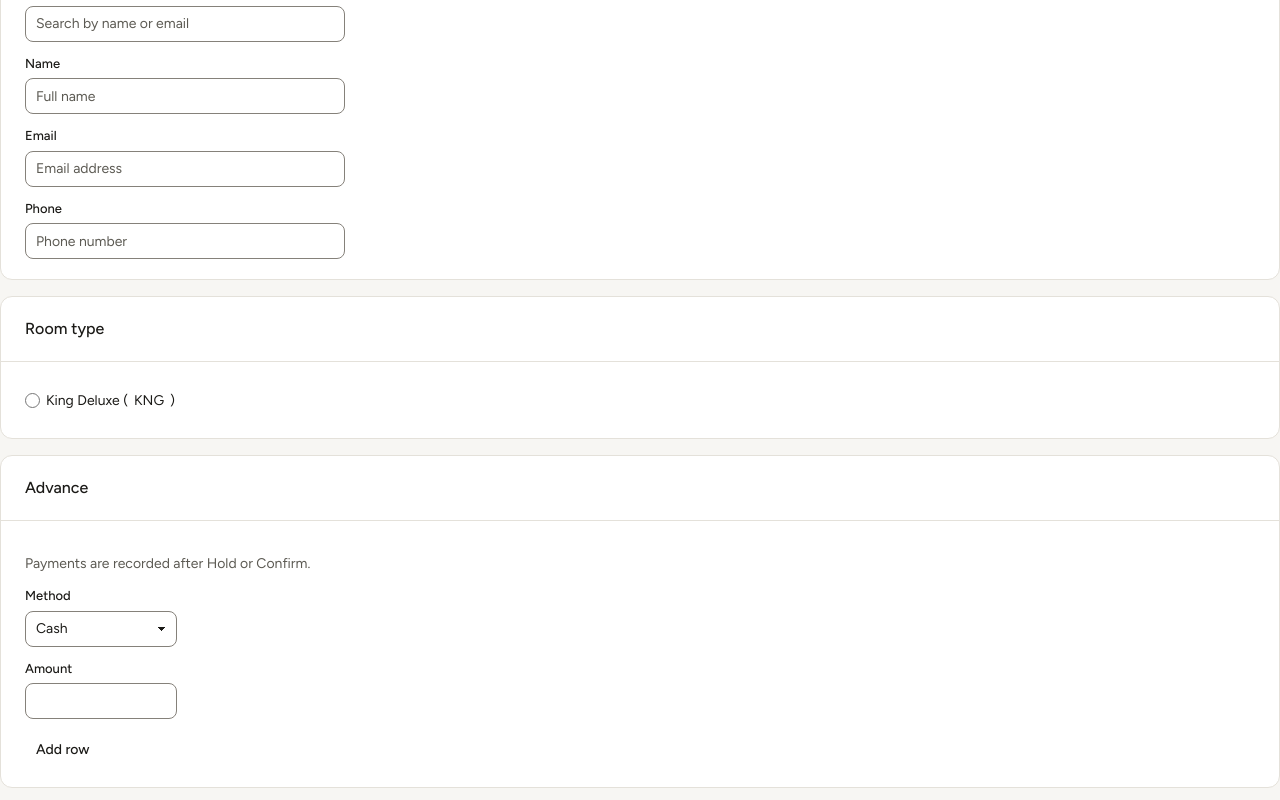
Scenario: BookingScreen › hides nightly amount inputs without rates:override
(page scrolled)
Click the radio button labelled "King Deluxe ( KNG )": (32, 400) x1=25 y1=393 x2=40 y2=408
(page scrolled)
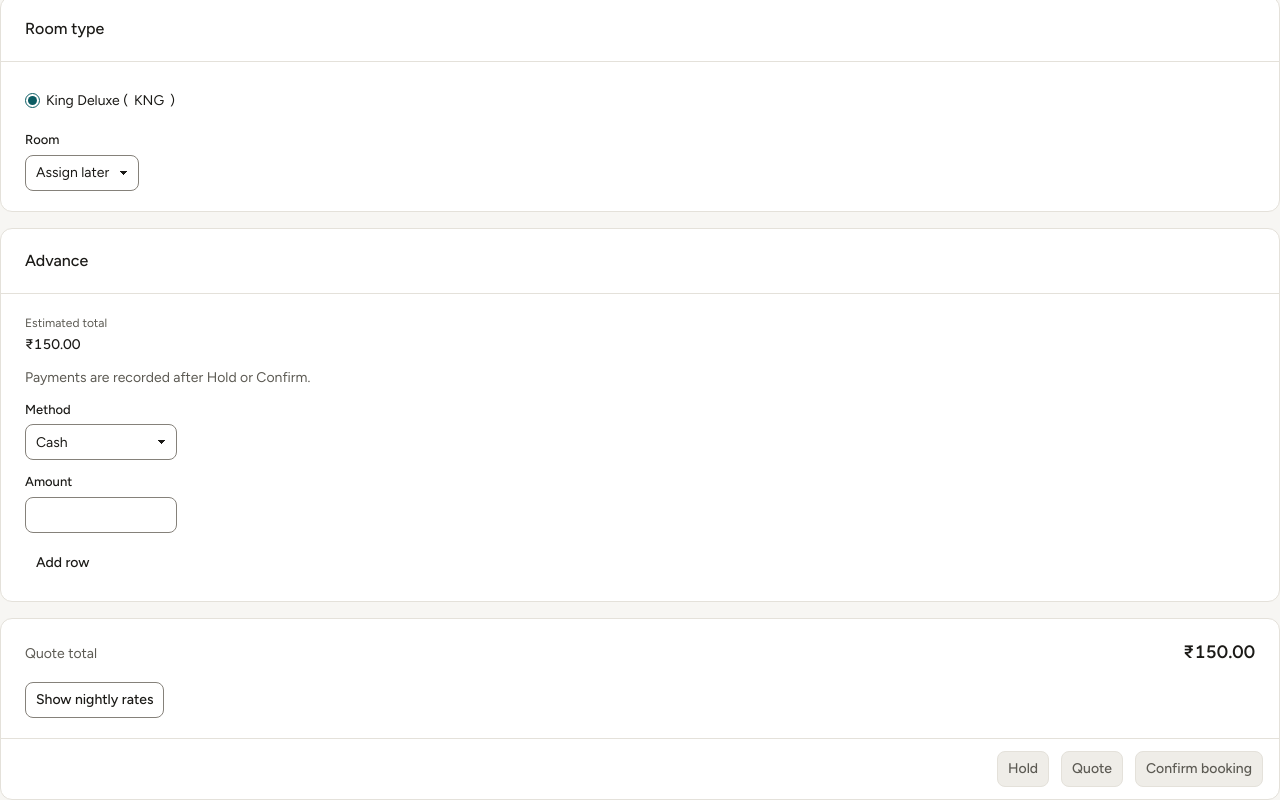
Check: the button with test id "nightly-rates-toggle" is shown
Click the button with test id "nightly-rates-toggle": (95, 700) x1=25 y1=682 x2=164 y2=718
(page scrolled)
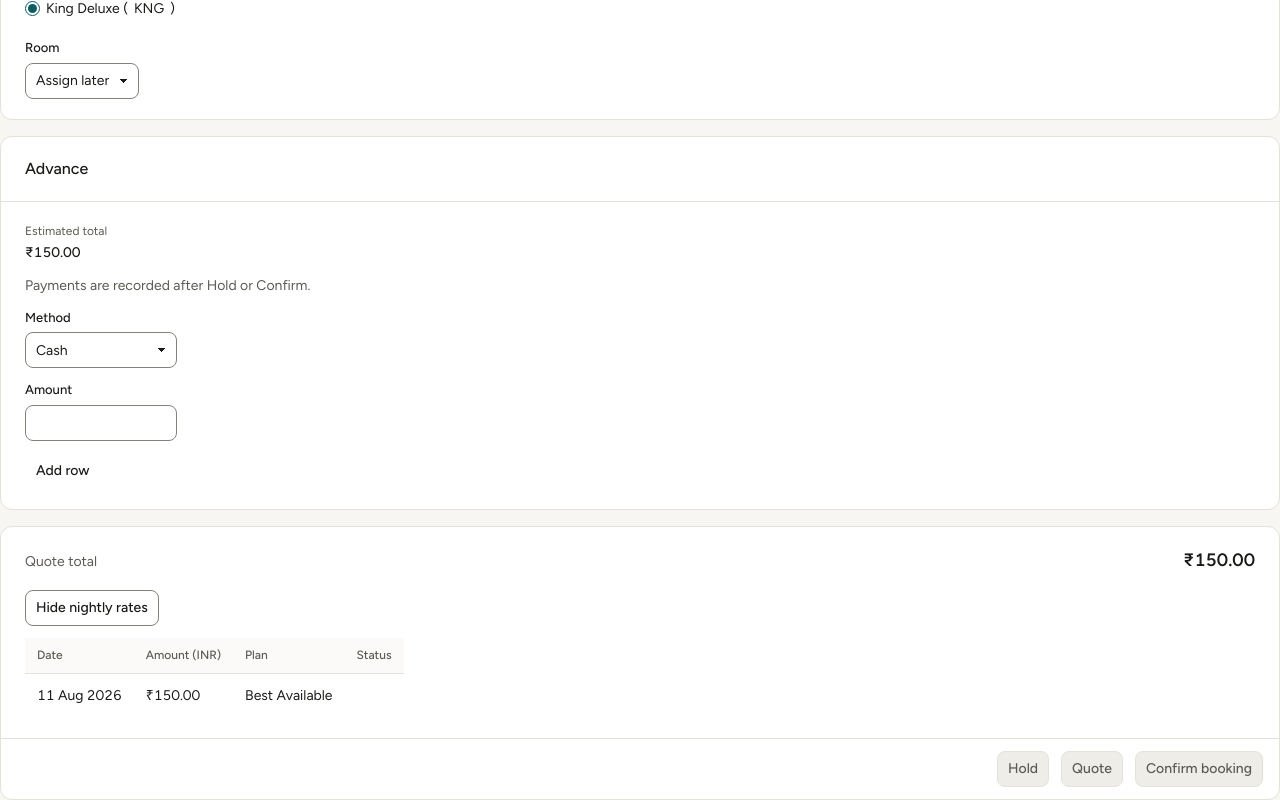
Check: the table with test id "nightly-rates-table" shows "Amount (INR)", box x1=146 y1=648 x2=221 y2=662
Check: the table with test id "nightly-rates-table" shows "Best Available", box x1=245 y1=688 x2=332 y2=704
Check: the table with test id "nightly-rates-table" shows "₹150.00", box x1=146 y1=688 x2=200 y2=704
